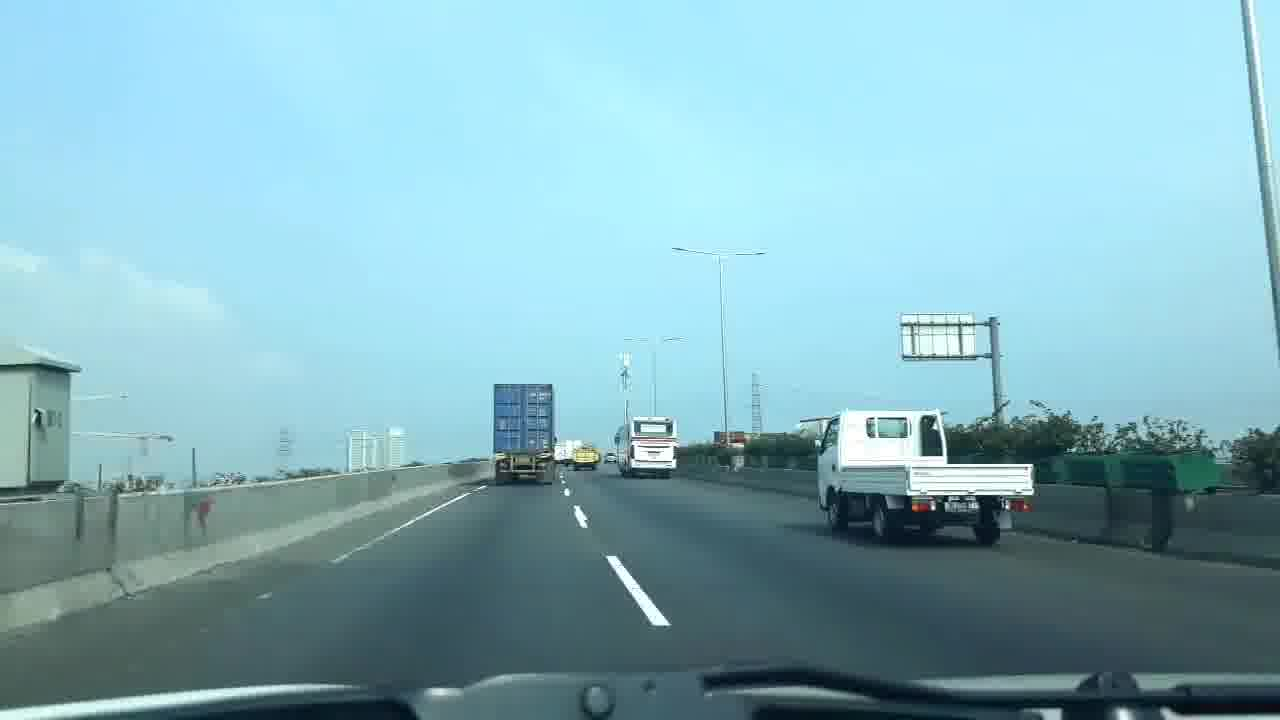plate_positive: (944, 502, 981, 513)
